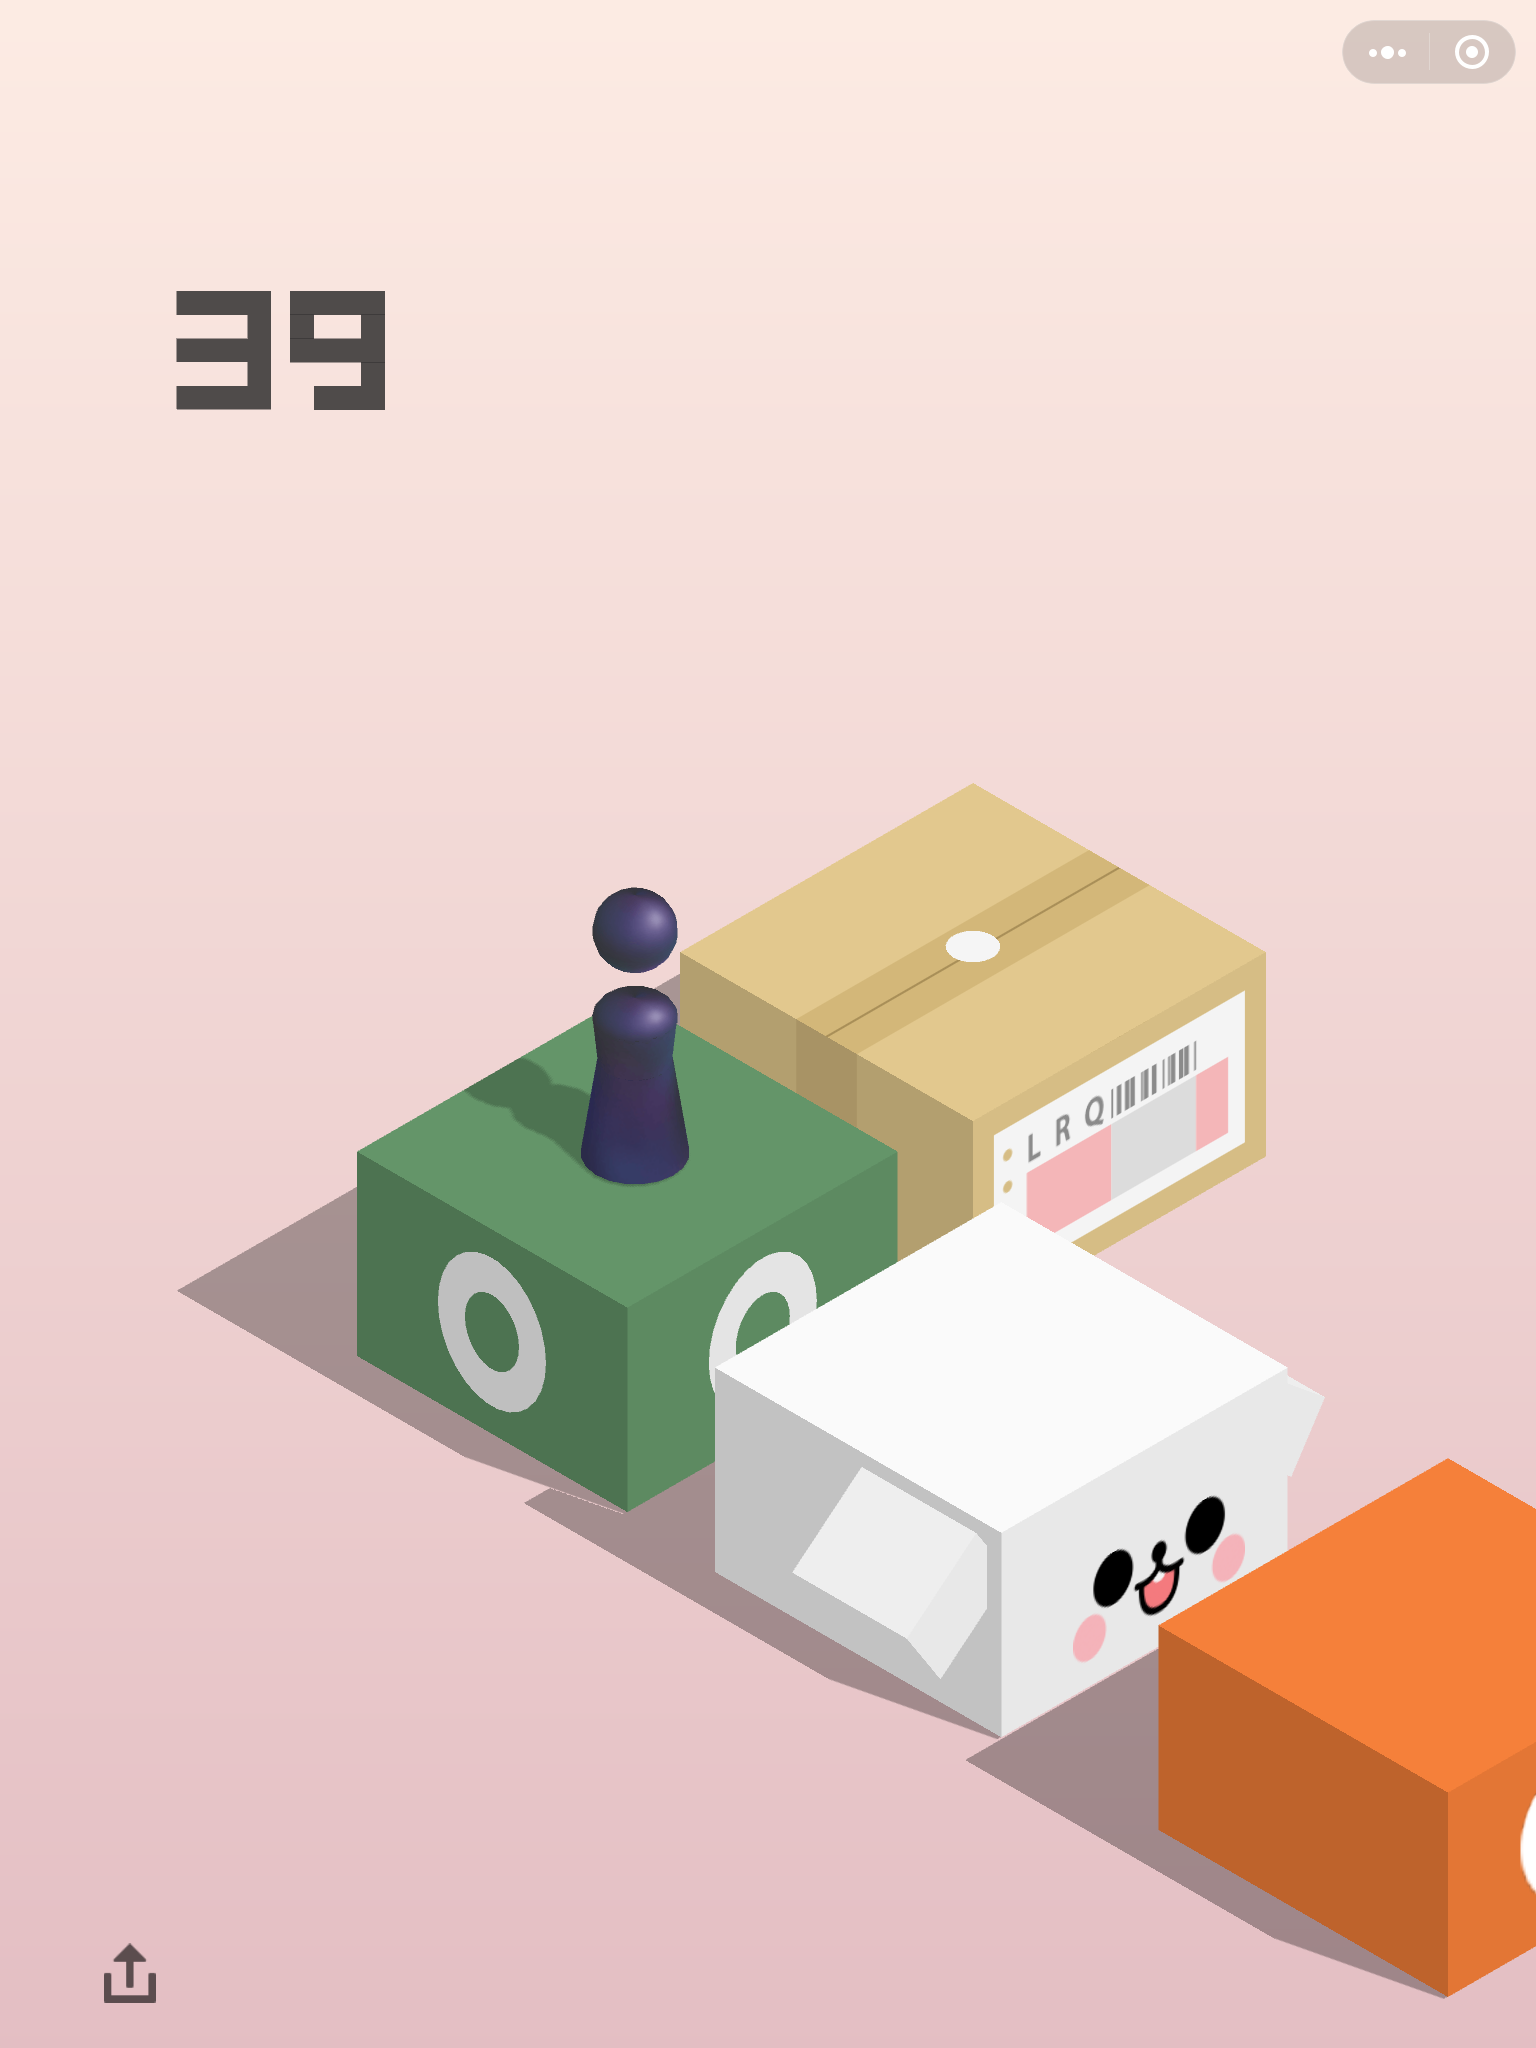f: (702, 1193, 1331, 1748), (671, 766, 1278, 1282), (352, 992, 904, 1516), (1155, 1455, 1536, 2000)
r: (574, 874, 703, 1200)
